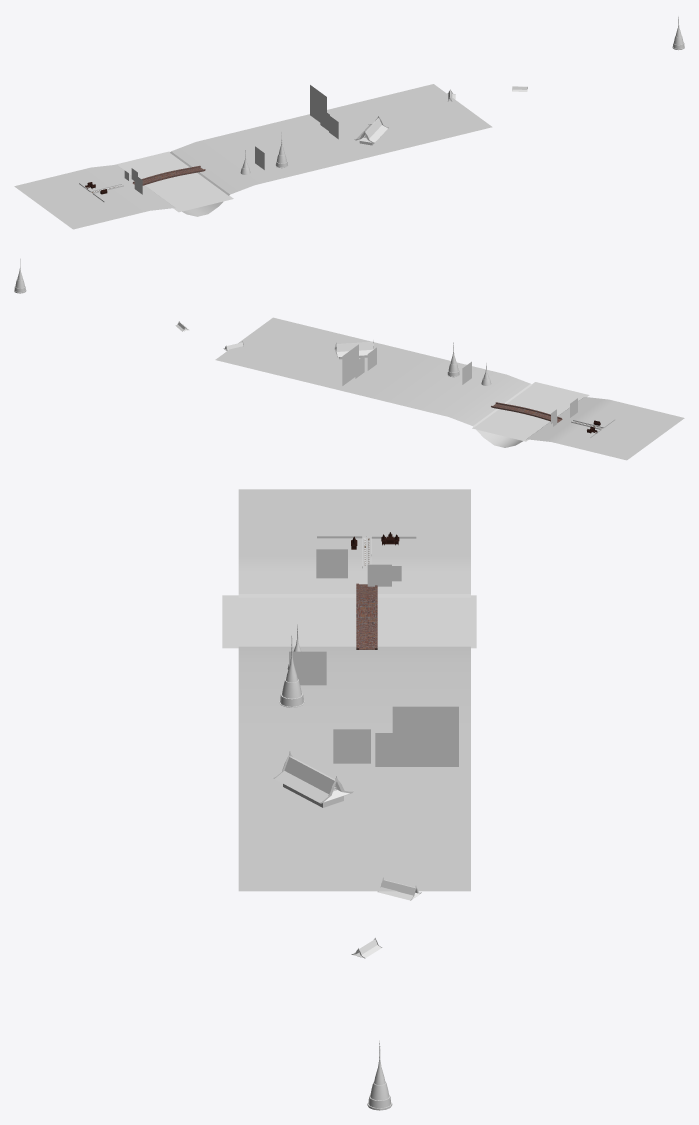
Rendered from Level2 1.fbx.
3 views of the same model, one above another, from view 1: azimuth 30°, elevation 25°; view 2: azimuth 150°, elevation 25°; view 3: azimuth 270°, elevation 25° (orthographic). The views are drawn at different scales.
Visible parts, largest first — view 1: Plane, Plane.009, Cube.028, Cube.026, Plane.012; view 2: Plane, Plane.009, Plane.012, Cube.028, Cube.026; view 3: Plane, Plane.009, Plane.012, Cube.026, Cube.028, Plane.010, Plane.008, Plane.001.
Part boxes in pixels (box(x1,y1,x2,y2)): Plane: box(14, 84, 492, 229); Plane.009: box(114, 151, 233, 212); Cube.028: box(132, 165, 205, 185); Cube.026: box(354, 116, 388, 143); Plane.012: box(310, 85, 326, 122); Plane: box(215, 317, 684, 460); Plane.009: box(472, 382, 589, 441); Plane.012: box(342, 344, 358, 385); Cube.028: box(491, 402, 562, 422); Cube.026: box(334, 340, 373, 356); Plane: box(238, 489, 470, 891); Plane.009: box(222, 595, 476, 648); Plane.012: box(392, 706, 458, 766); Cube.026: box(273, 751, 353, 803); Cube.028: box(356, 583, 377, 649); Plane.010: box(333, 729, 370, 763); Plane.008: box(289, 651, 326, 685); Plane.001: box(316, 549, 347, 578).
Size of the model in its own units: 116584 by 8881 by 20248.
25 materials, 3 textured.
